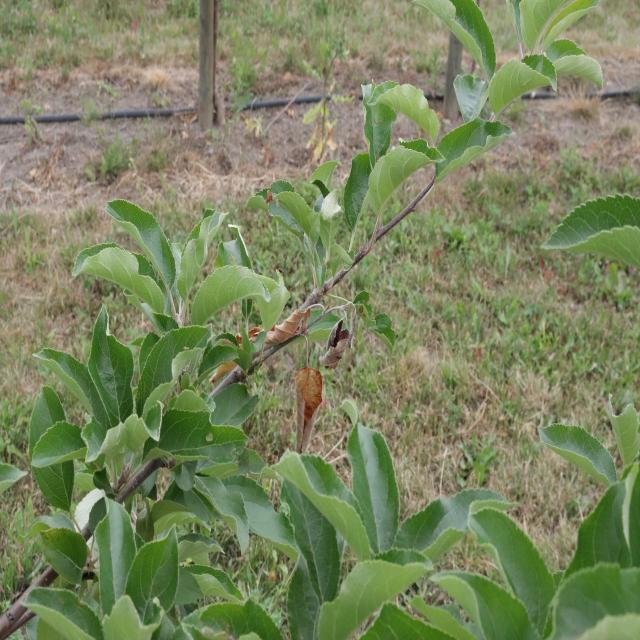-FireBlight-: (291, 350, 321, 454), (321, 287, 355, 369), (271, 311, 307, 345)
